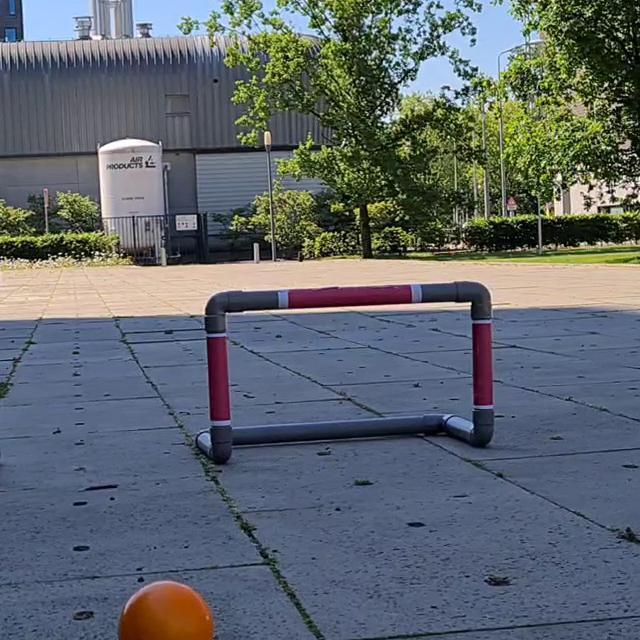ball: (118, 579, 218, 640)
